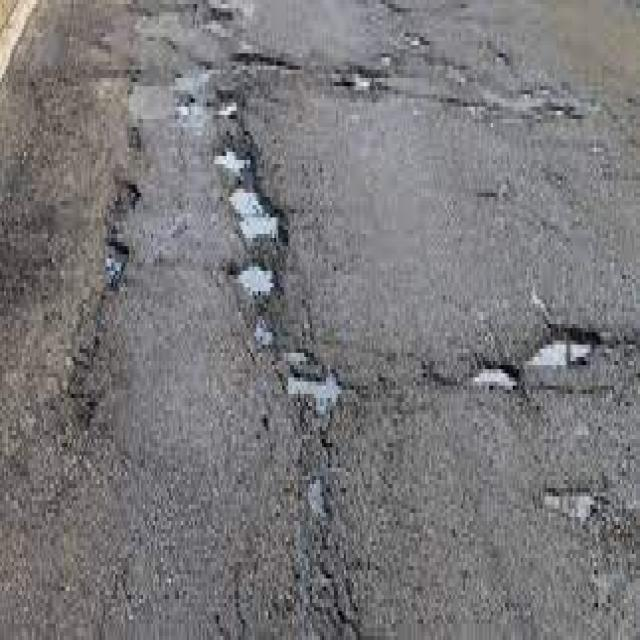pothole: (231, 188, 289, 245), (527, 326, 601, 368), (228, 260, 278, 304), (456, 362, 522, 394), (292, 372, 344, 412), (336, 54, 387, 91), (217, 144, 253, 176), (253, 322, 282, 354), (212, 94, 244, 122)
